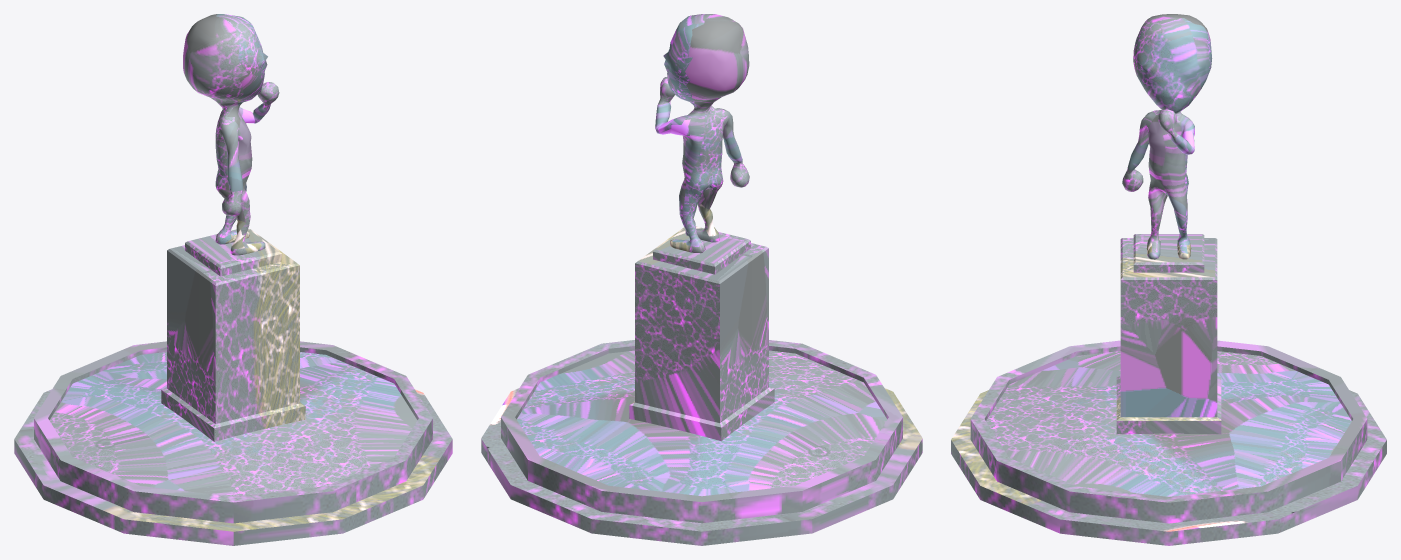
The model's file is Bat_Prado_8.fbx.
3 views of the same model, side by side, from view 1: azimuth 30°, elevation 25°; view 2: azimuth 150°, elevation 25°; view 3: azimuth 270°, elevation 25° (orthographic).
Visible parts, largest first — view 1: Bat_Prado_8; view 2: Bat_Prado_8; view 3: Bat_Prado_8.
Part boxes in pixels (x1,y1,x2,y2): Bat_Prado_8: [14, 14, 452, 545]; Bat_Prado_8: [481, 14, 922, 545]; Bat_Prado_8: [951, 14, 1386, 545].
Size of the model in its own units: 716 by 784 by 716.
